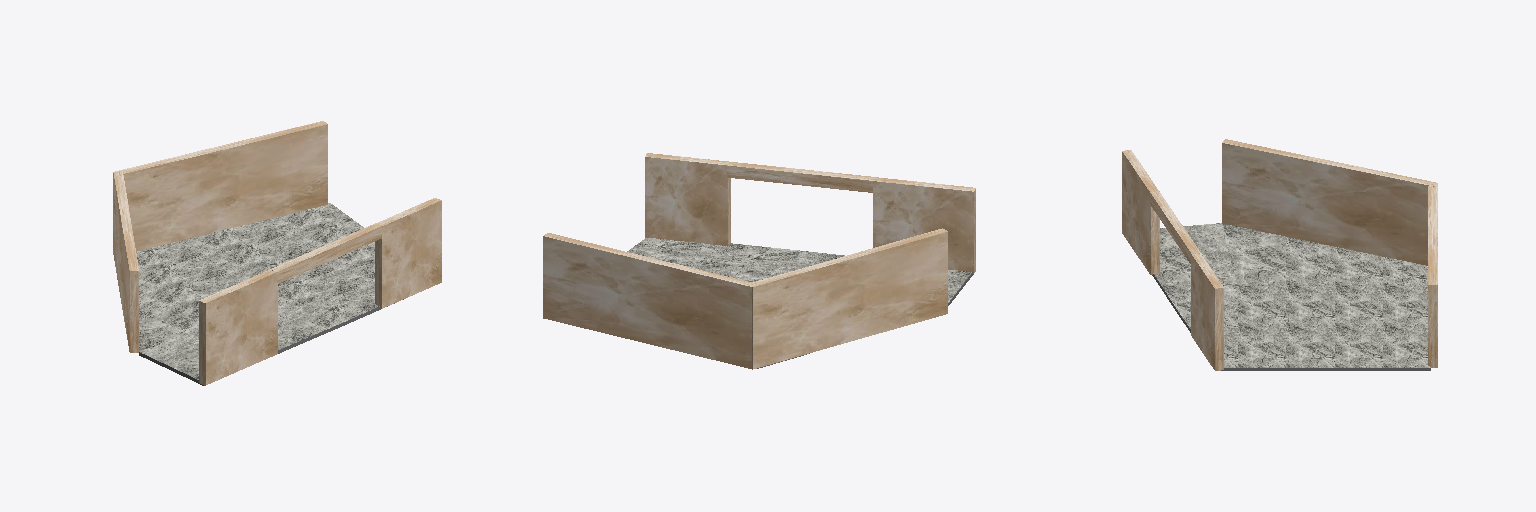
3 renders of one model, left to right at view 1: azimuth 30°, elevation 25°; view 2: azimuth 150°, elevation 25°; view 3: azimuth 270°, elevation 25°, orthographic.
Parts seen in each view (by area): view 1: pCube33; view 2: pCube33; view 3: pCube33.
Part boxes in pixels (bbox=[...]): pCube33: bbox=[113, 121, 441, 385]; pCube33: bbox=[543, 153, 975, 369]; pCube33: bbox=[1122, 139, 1437, 370].
Bounding box in the file's own units: 80.72 × 21.16 × 72.01.
Materials: 3 (2 with a texture image).